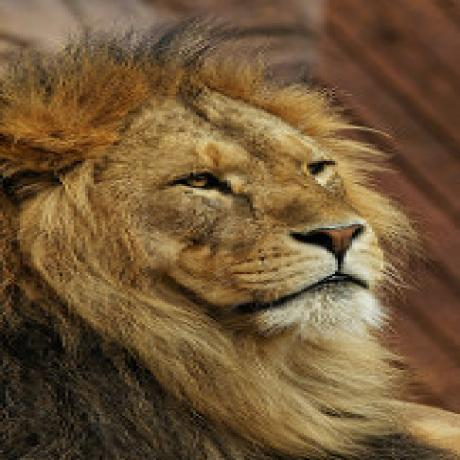Lion: (0, 11, 414, 460)
